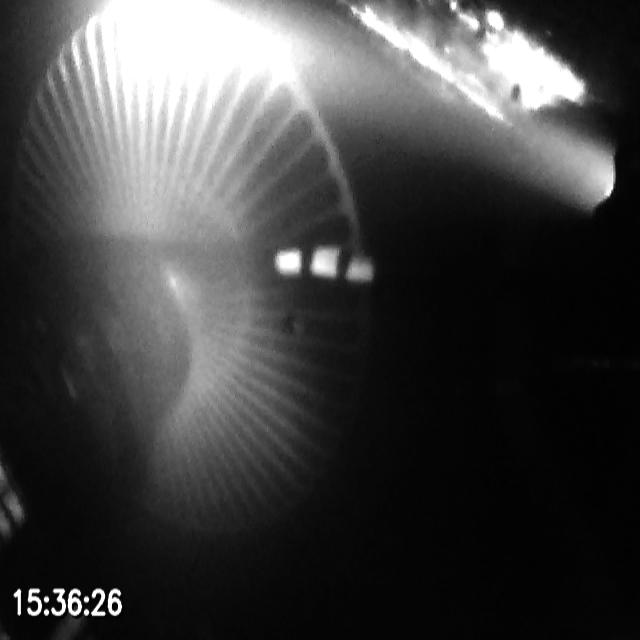white-dots: (273, 242, 377, 286)
